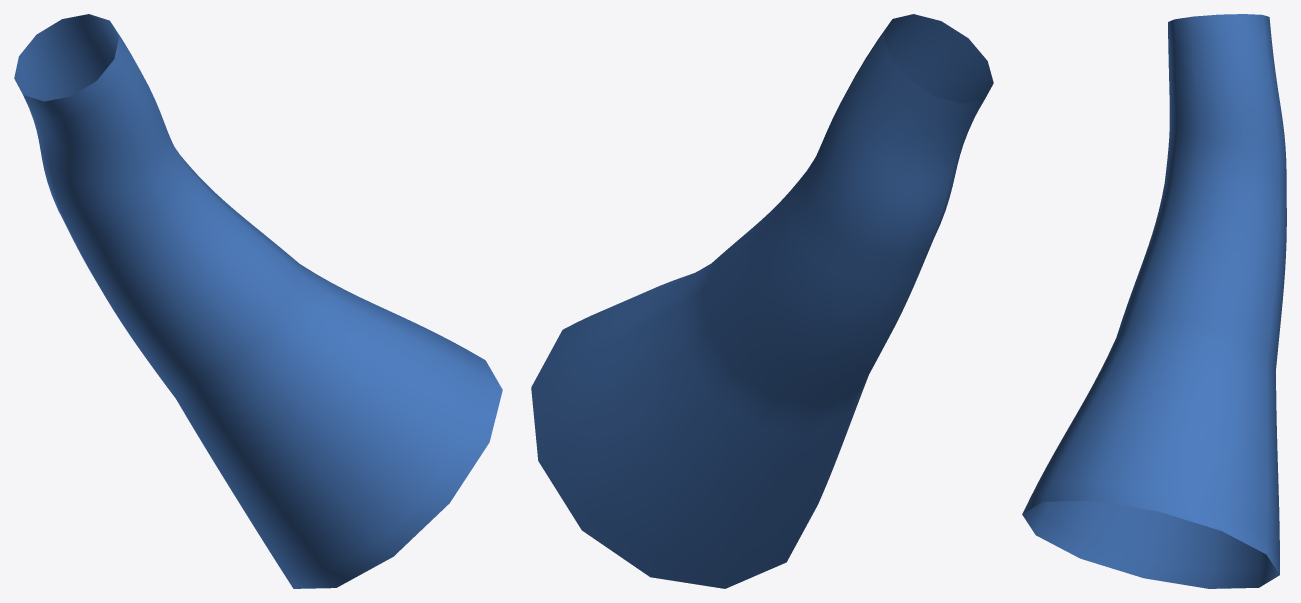
3 views of the same model, side by side, from view 1: azimuth 30°, elevation 25°; view 2: azimuth 150°, elevation 25°; view 3: azimuth 270°, elevation 25° (orthographic). The views are drawn at different scales.
Parts seen in each view (by area): view 1: 右肾静脉; view 2: 右肾静脉; view 3: 右肾静脉.
Boxes of the visible parts, bbox=[...] form: 右肾静脉: bbox=[14, 14, 502, 588]; 右肾静脉: bbox=[531, 14, 993, 588]; 右肾静脉: bbox=[1022, 14, 1286, 588].
Size of the model in its own units: 0.0314 by 0.0403 by 0.0191.
